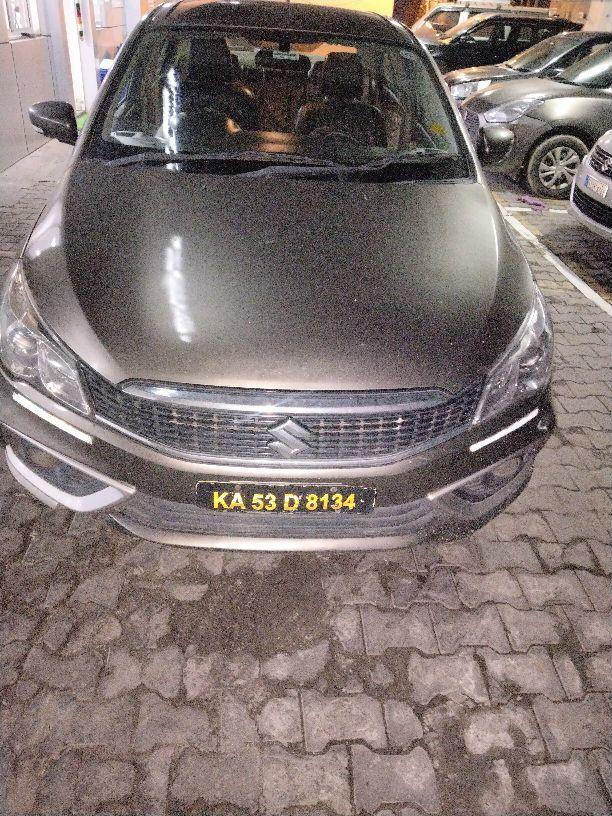license_plate: (194, 480, 377, 514)
